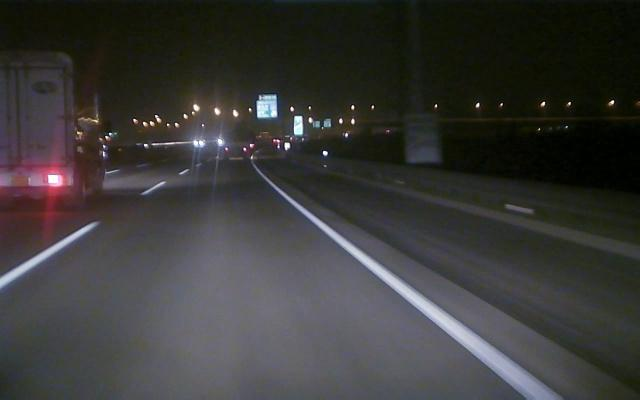lane: (263, 178, 562, 398), (2, 180, 167, 289)
